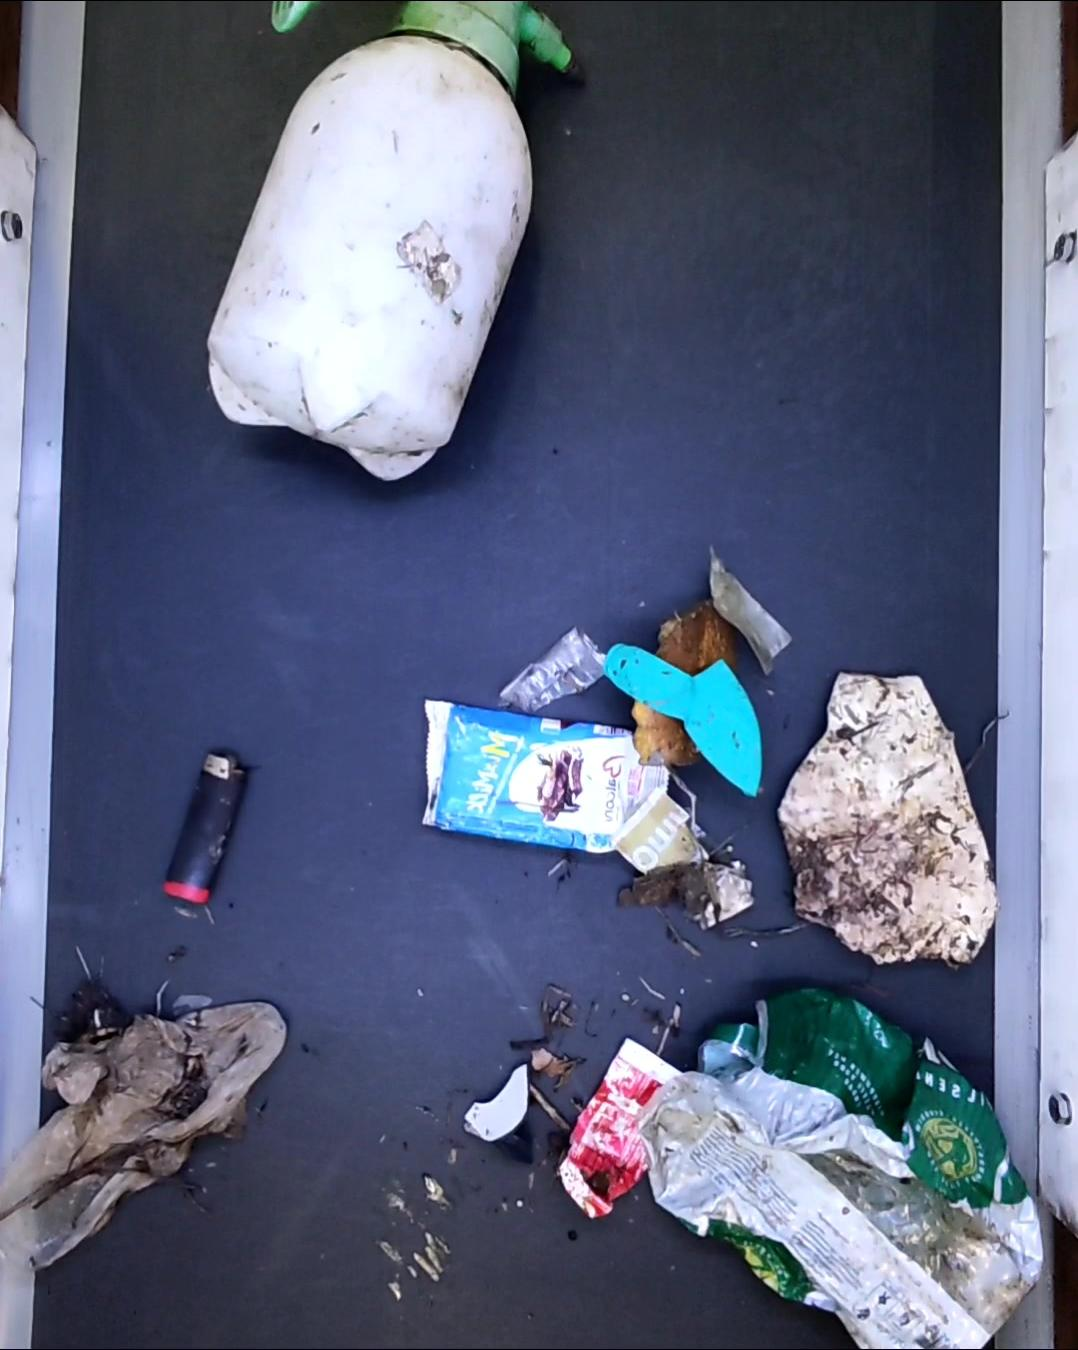Plastic folies of stukken daarvan 2.5- 50 cm: (0, 994, 294, 1271), (707, 545, 792, 673), (507, 627, 607, 712)
Snoep snack en chips verpakkingen: (425, 699, 667, 856), (562, 1041, 686, 1216)
